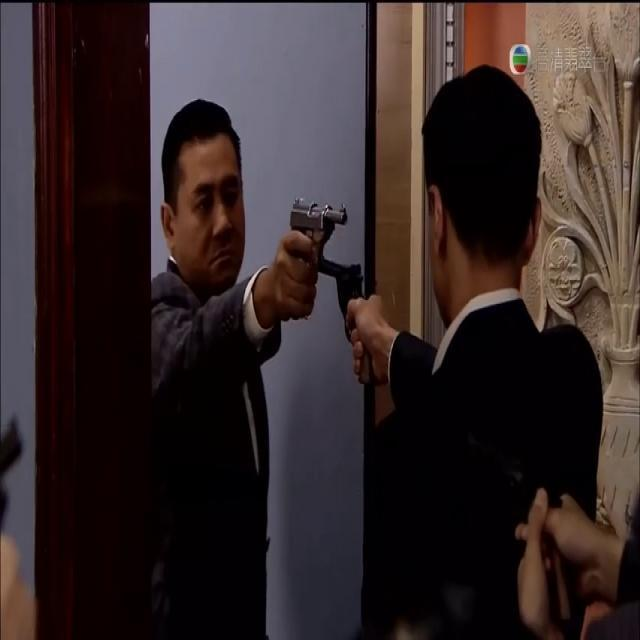gun-knife-thesis - v11 Yolov5 augmented: (257, 181, 343, 324), (320, 243, 384, 389)
